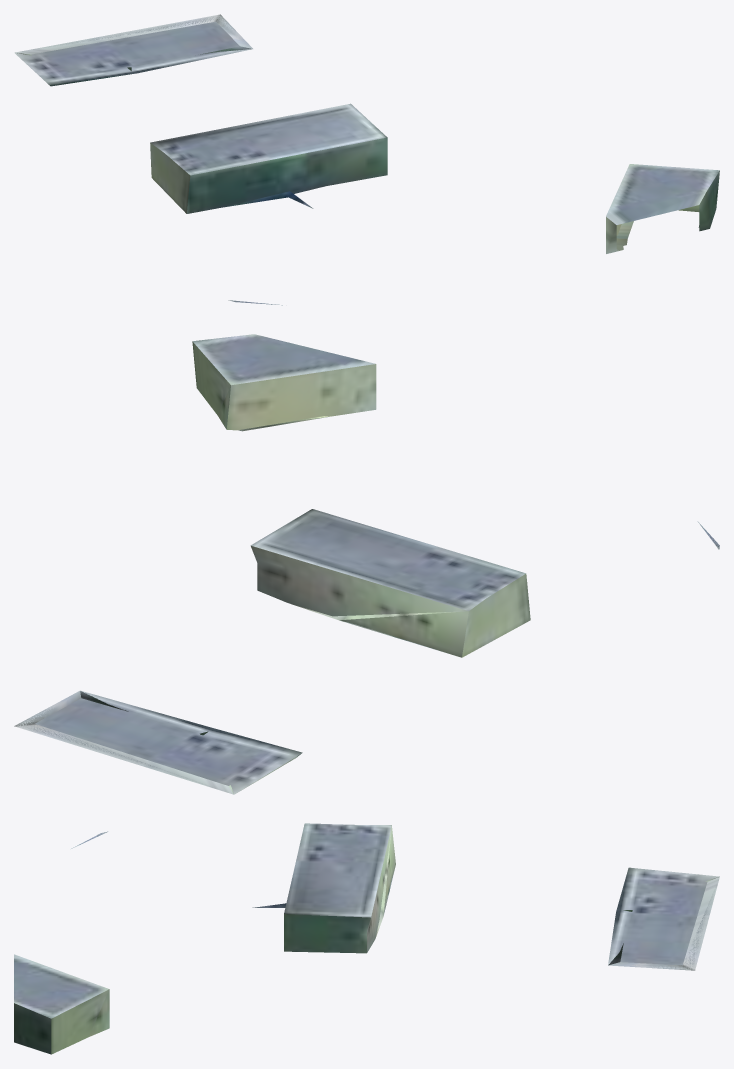
The picture shows the model from 3 angles, top to bottom: view 1: azimuth 30°, elevation 25°; view 2: azimuth 150°, elevation 25°; view 3: azimuth 270°, elevation 25°; orthographic projection. The views are drawn at different scales.
Visible parts, largest first — view 1: 3043627270437061567_0; view 2: 3043627270437061567_0; view 3: 3043627270437061567_0.
Part boxes in pixels (x1,y1,x2,y2): 3043627270437061567_0: (14, 14, 719, 305); 3043627270437061567_0: (14, 334, 719, 794); 3043627270437061567_0: (14, 823, 719, 1054).
Bounding box in the file's own units: 39.58 × 3.09 × 52.44.
Materials: 1 (1 with a texture image).
